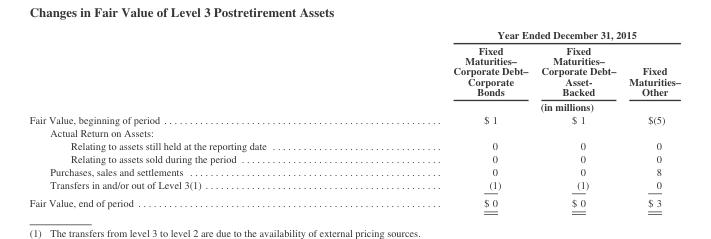table: (28, 28, 679, 208)
table column: (28, 28, 359, 208), (359, 28, 533, 208), (533, 28, 621, 208), (621, 28, 679, 208)
table column header: (28, 28, 679, 113)
table projected row header: (28, 126, 679, 139)
table row: (28, 42, 679, 99), (28, 178, 679, 193), (28, 193, 679, 208), (28, 28, 679, 42), (28, 99, 679, 113), (28, 113, 679, 126), (28, 126, 679, 139), (28, 139, 679, 152), (28, 152, 679, 165), (28, 165, 679, 178)
table spanning cell: (359, 28, 679, 42), (359, 99, 679, 113)
